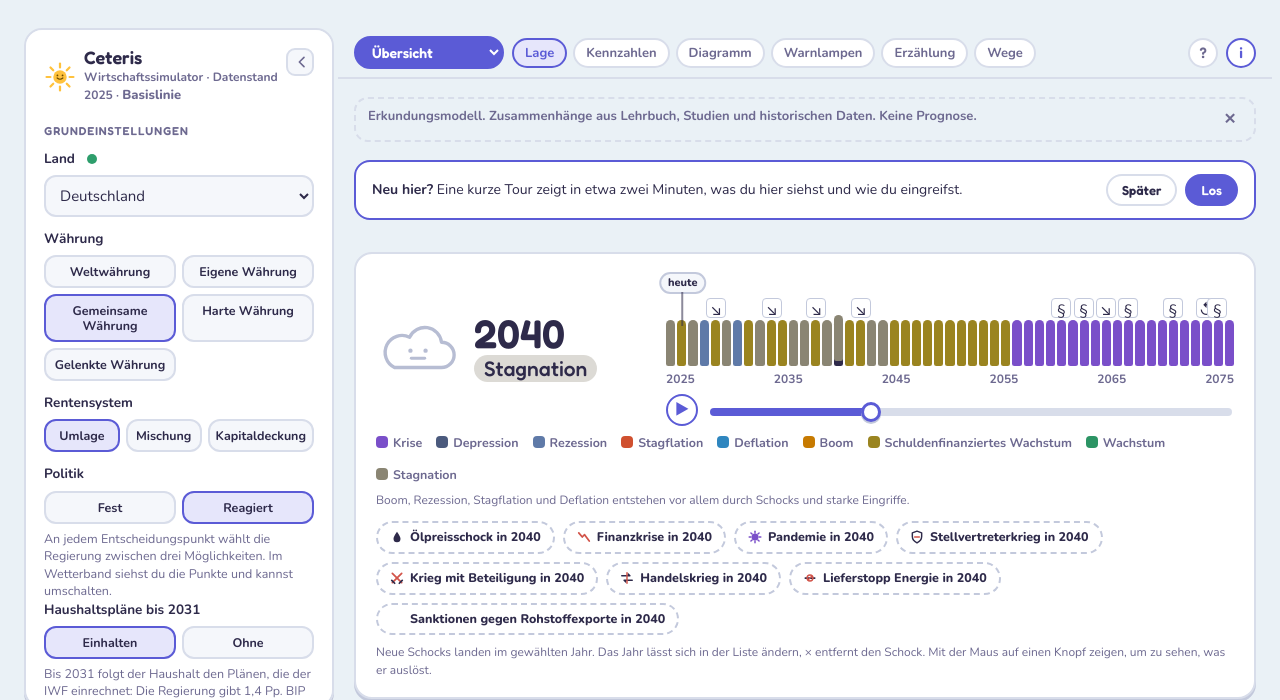
Test case: 13.10 Politik in der Oberfläche › 13.13: Hinweis unter „Politik“ erklärt „Reagiert“ und verschwindet bei „Fest“
Expected: the text "An jedem Entscheidungspunkt wählt die Regierung zwischen drei Möglichkeiten" is shown, [44,530,293,599]
Click the radio button labelled "Fest".
click(110, 507)  # box [44,490,176,524]
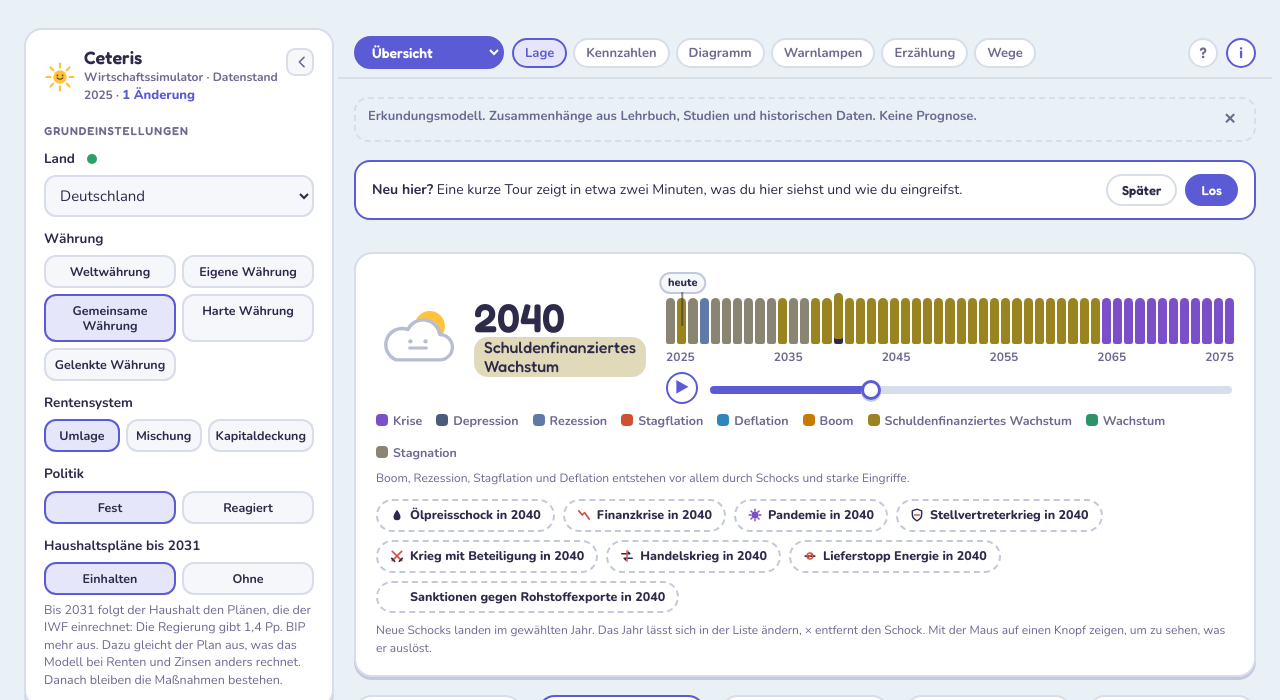
Expected: the text "An jedem Entscheidungspunkt wählt die Regierung" is gone
